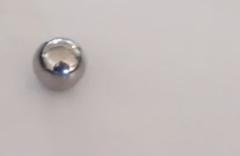steelball: (30, 34, 88, 94)
